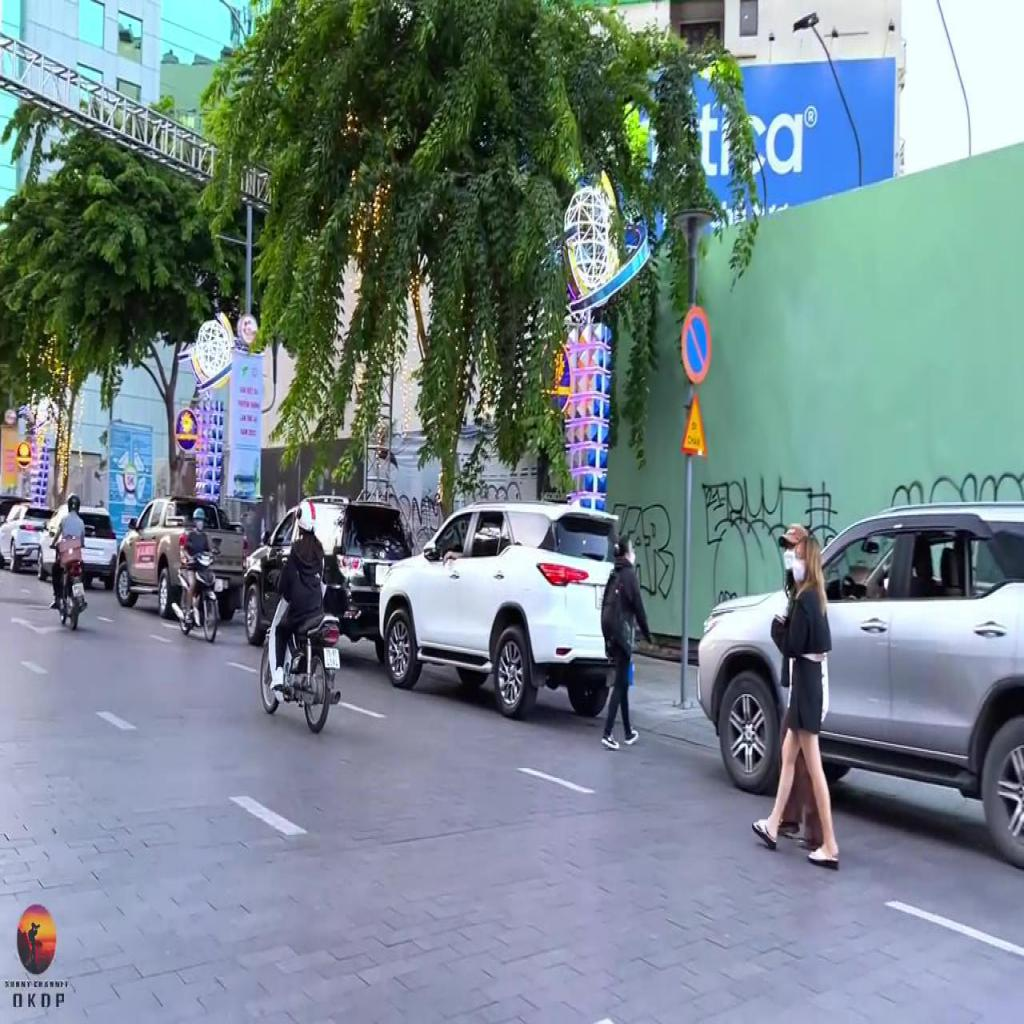cam_do_xe: (678, 300, 714, 390)
di_cham: (682, 390, 708, 456)
